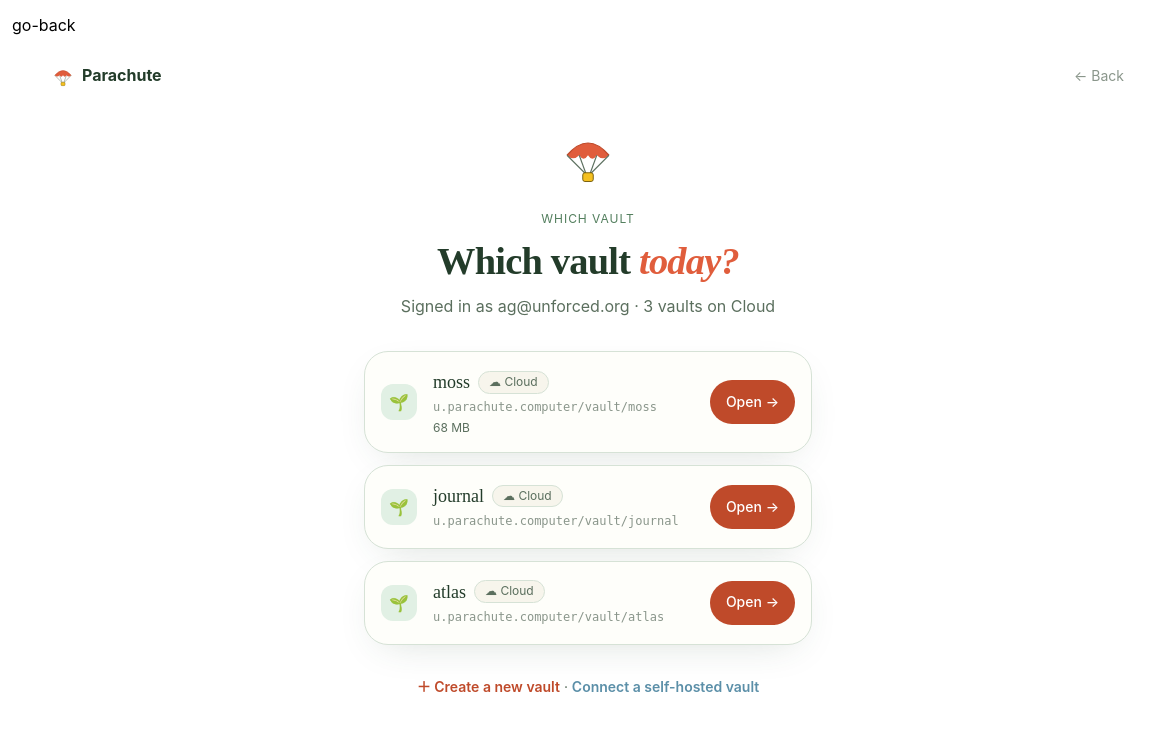
Scenario: Welcome (the post-sign-in dispatcher) › picker (many vaults) › offers Create a new vault and Connect a self-hosted vault
Expected: the heading "Which vault today?" is shown, [437, 240, 739, 282]
Click the button "＋ Create a new vault".
click(488, 687)  # box [417, 677, 560, 697]
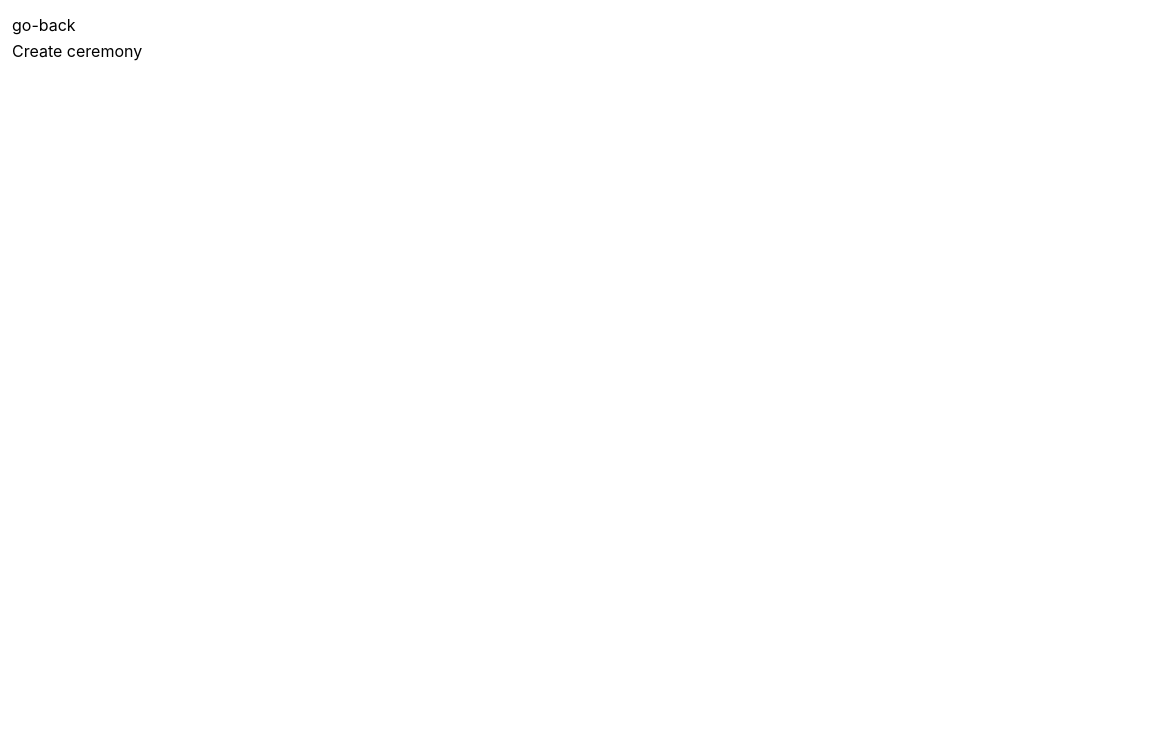
Result: the text "Create ceremony" is shown at [12, 41, 142, 61]
